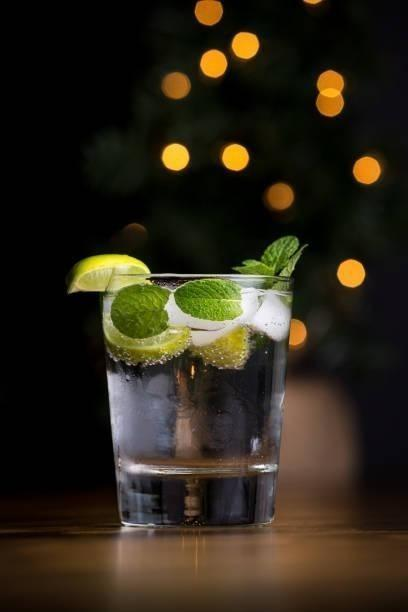glass-normal: (97, 269, 297, 532)
